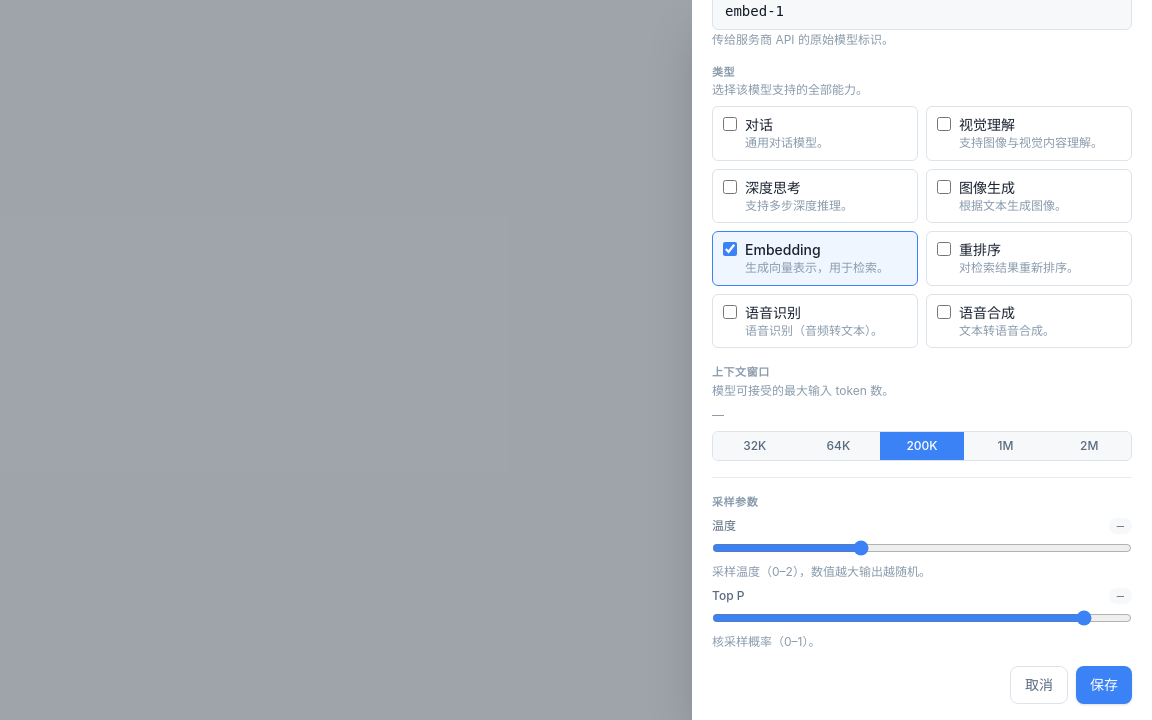
it: ModelDrawer › an untouched edit of an originally-null sampling field round-trips as null
(page scrolled)
Open the drawer, leave every sampling control untouched, and save.
Click the button "保存".
click(1104, 685)  # box [1076,666,1132,704]
(page scrolled)
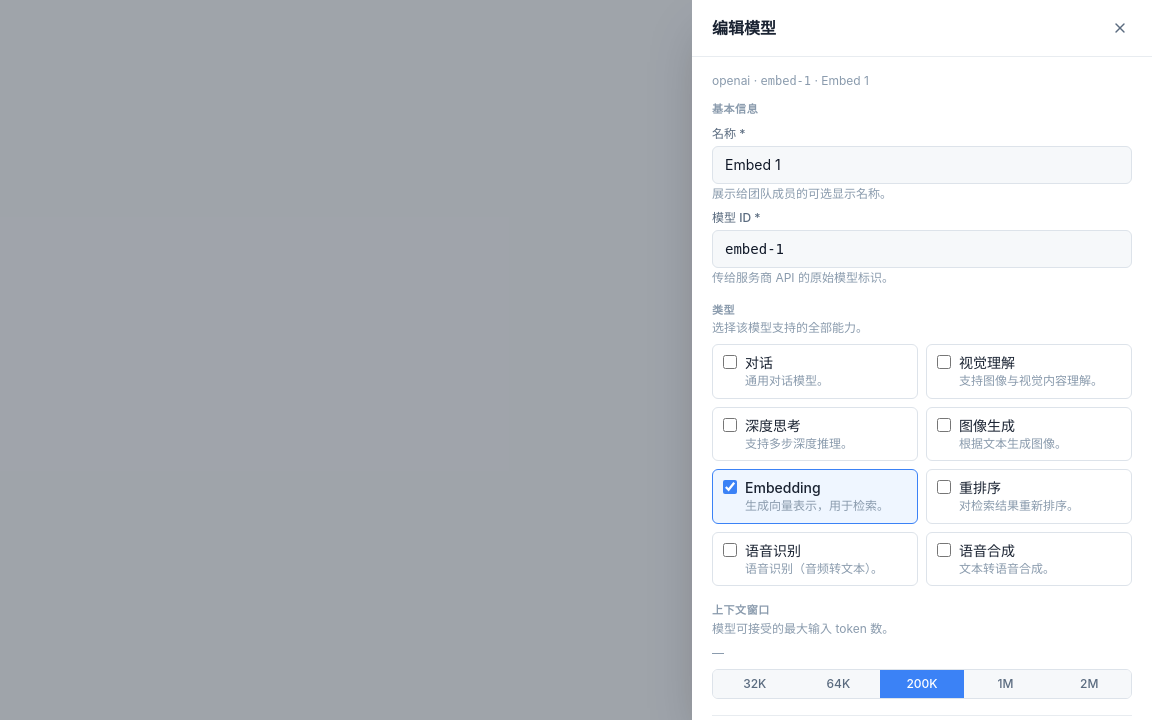
Expected: the text "embed-1" is shown, [760,74,811,88]
